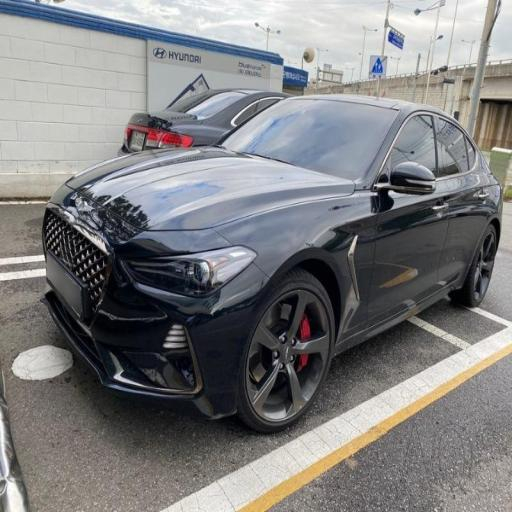dent: (49, 174, 198, 293)
